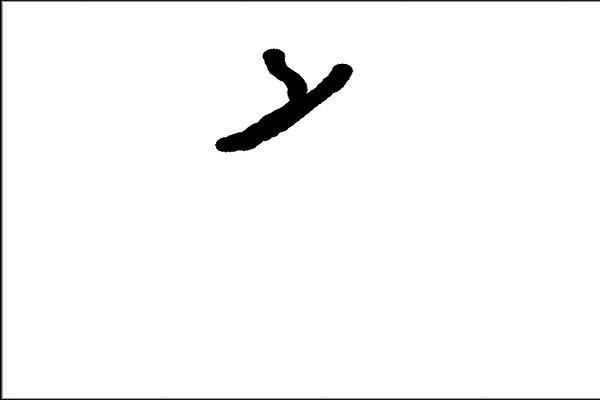Y: (205, 35, 356, 157)
